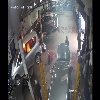fire: (21, 37, 38, 53)
